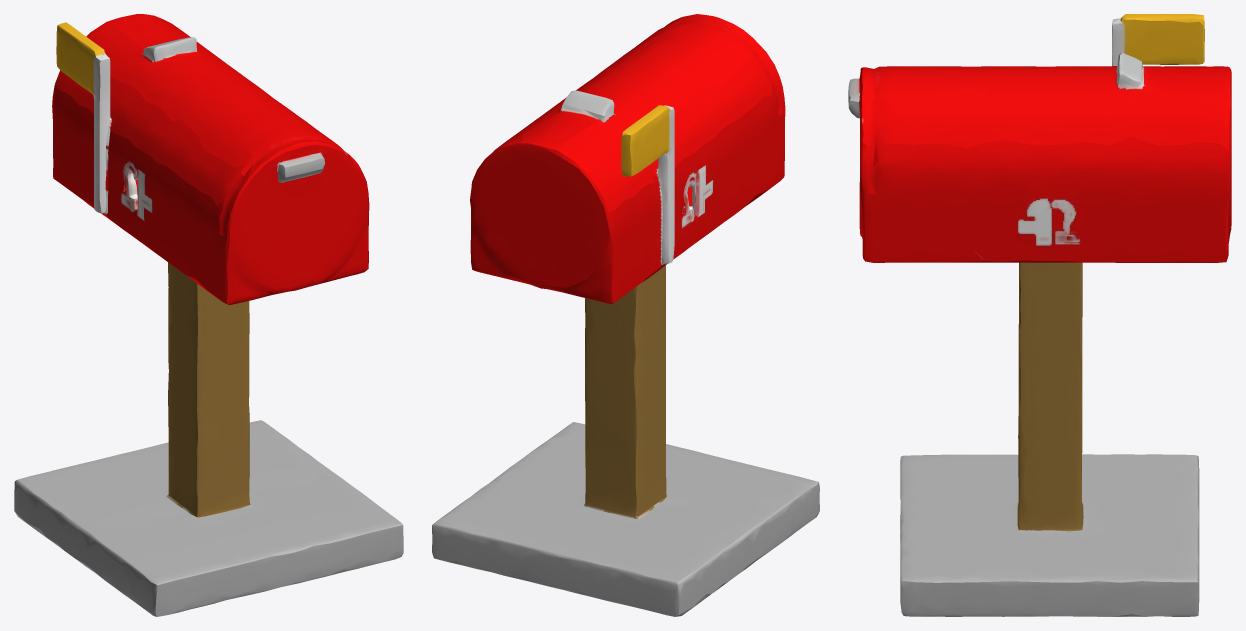
Rendered from mailbox__n322.glb.
The picture shows the model from 3 angles, left to right: view 1: azimuth 30°, elevation 25°; view 2: azimuth 150°, elevation 25°; view 3: azimuth 270°, elevation 25°; orthographic projection. The views are drawn at different scales.
Size of the model in its own units: 0.5002 by 0.9173 by 0.6362.
Materials: 1 (1 with a texture image).
